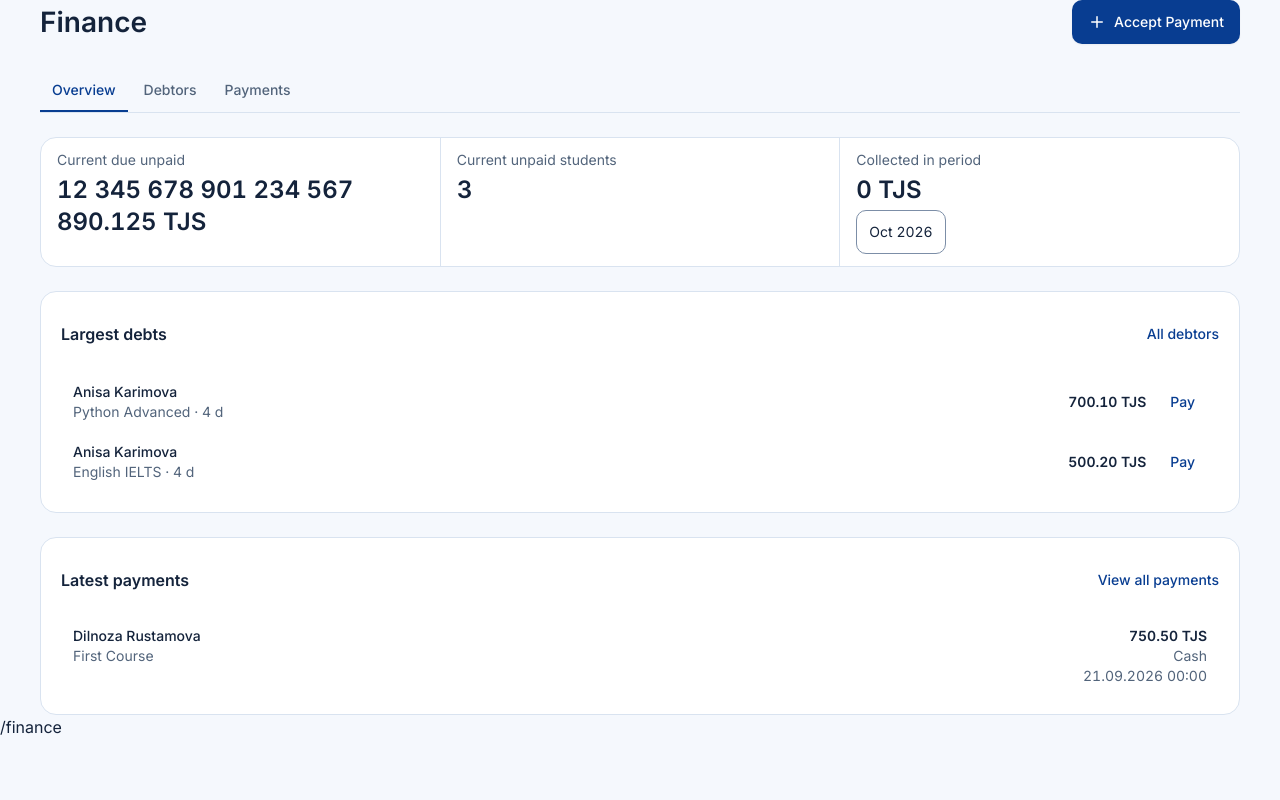
Scenario: Finance overview › opens the payment dialog for the exact student and course of the row
Click the button with aria-label "Accept payment for Anisa Karimova, English IELTS" at (1183, 462), box 1158,440 -> 1207,484
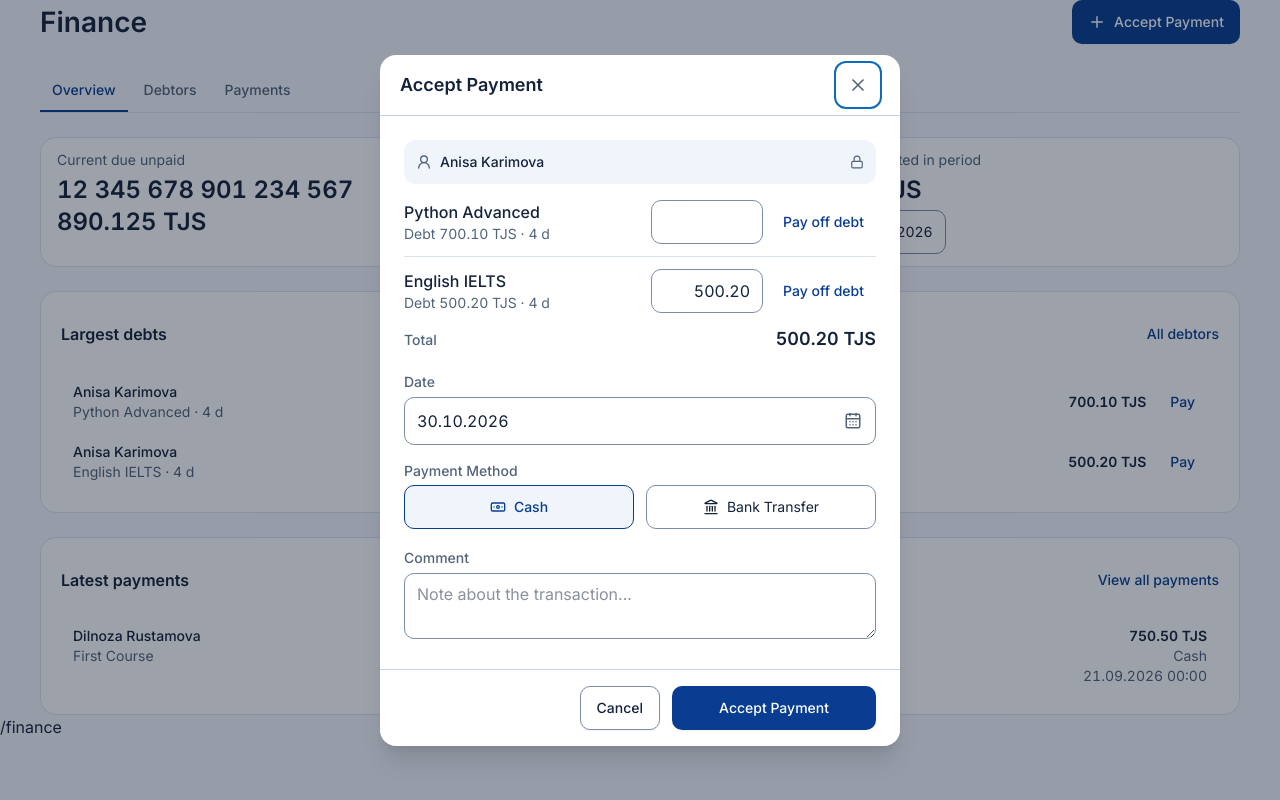
Expected: the field named "Amount for Python Advanced (TJS)" is empty, 651,200 -> 763,244
Expected: the text "Anisa Karimova" is shown, 440,152 -> 544,172
Expected: the field named "Amount for English IELTS (TJS)" holds "500.20", 651,268 -> 763,312
